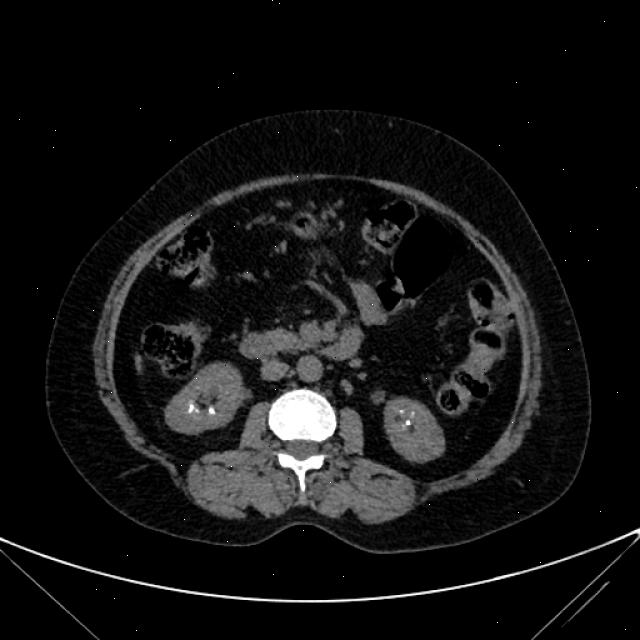kidneystone: (402, 419, 411, 426), (209, 406, 216, 414), (188, 401, 191, 413)
